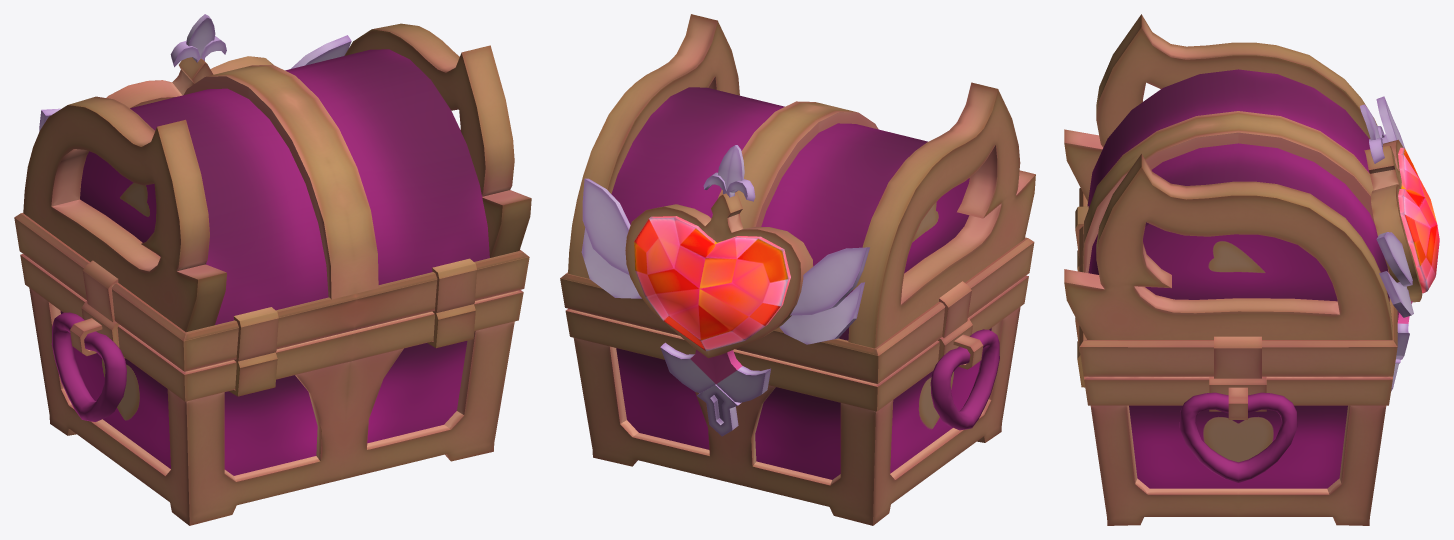
Rendered from pink_chest.glb.
The picture shows the model from 3 angles, left to right: view 1: azimuth 30°, elevation 25°; view 2: azimuth 150°, elevation 25°; view 3: azimuth 270°, elevation 25°; orthographic projection. The views are drawn at different scales.
Visible parts, largest first — view 1: low_chest; view 2: low_chest; view 3: low_chest.
Boxes of the visible parts, x1,y1,x2,y2 form: low_chest: (14, 14, 531, 525); low_chest: (560, 14, 1035, 525); low_chest: (1064, 14, 1439, 525).
Size of the model in its own units: 2.8 by 2.64 by 2.46.
1 material, 1 textured.
